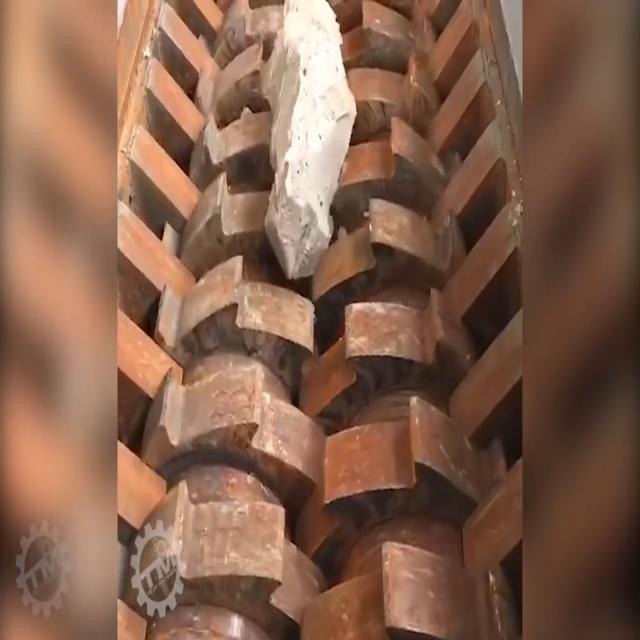Broyeur: (118, 0, 522, 640)
